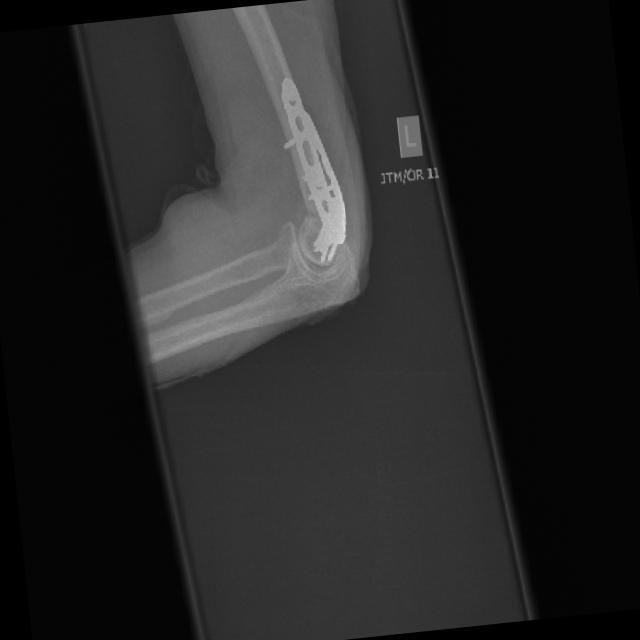elbow positive: (289, 160, 351, 253)
